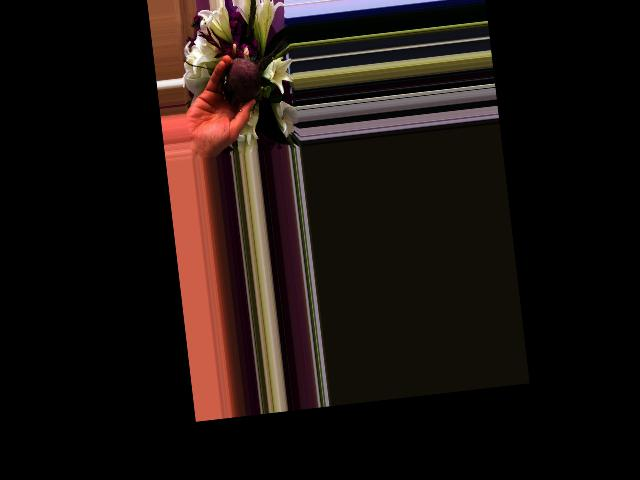beet: (217, 35, 293, 104)
